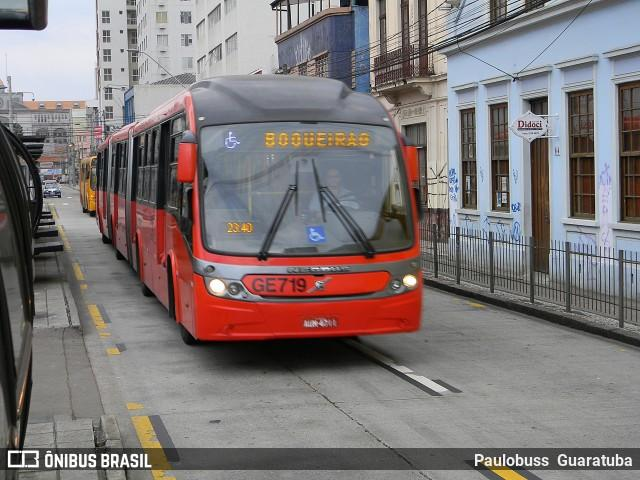BOQUEIRAO: (257, 127, 375, 155)
